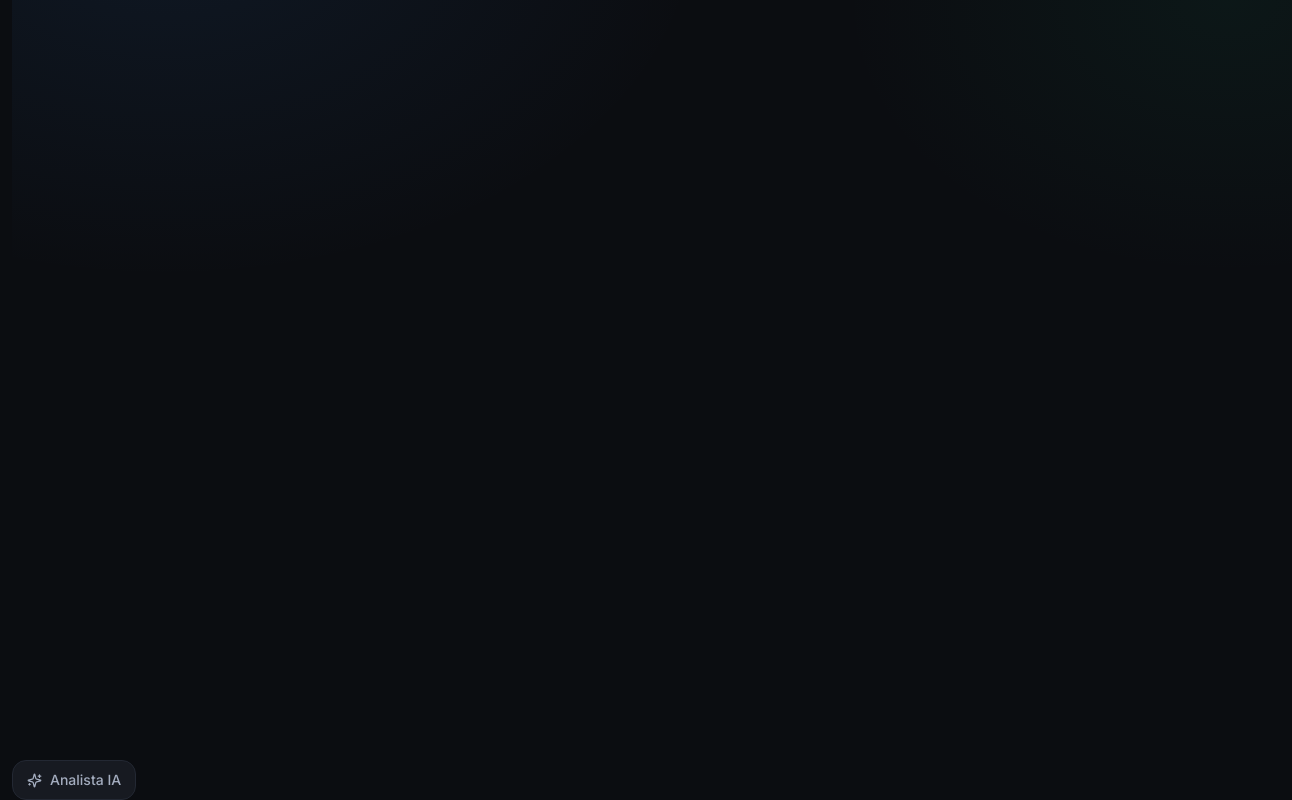
Test: AssetChat history › lists this scope's conversations first and reopens one in place
(page scrolled)
Click the button "Analista IA" at (74, 780), box left=12, top=760, right=136, bottom=799
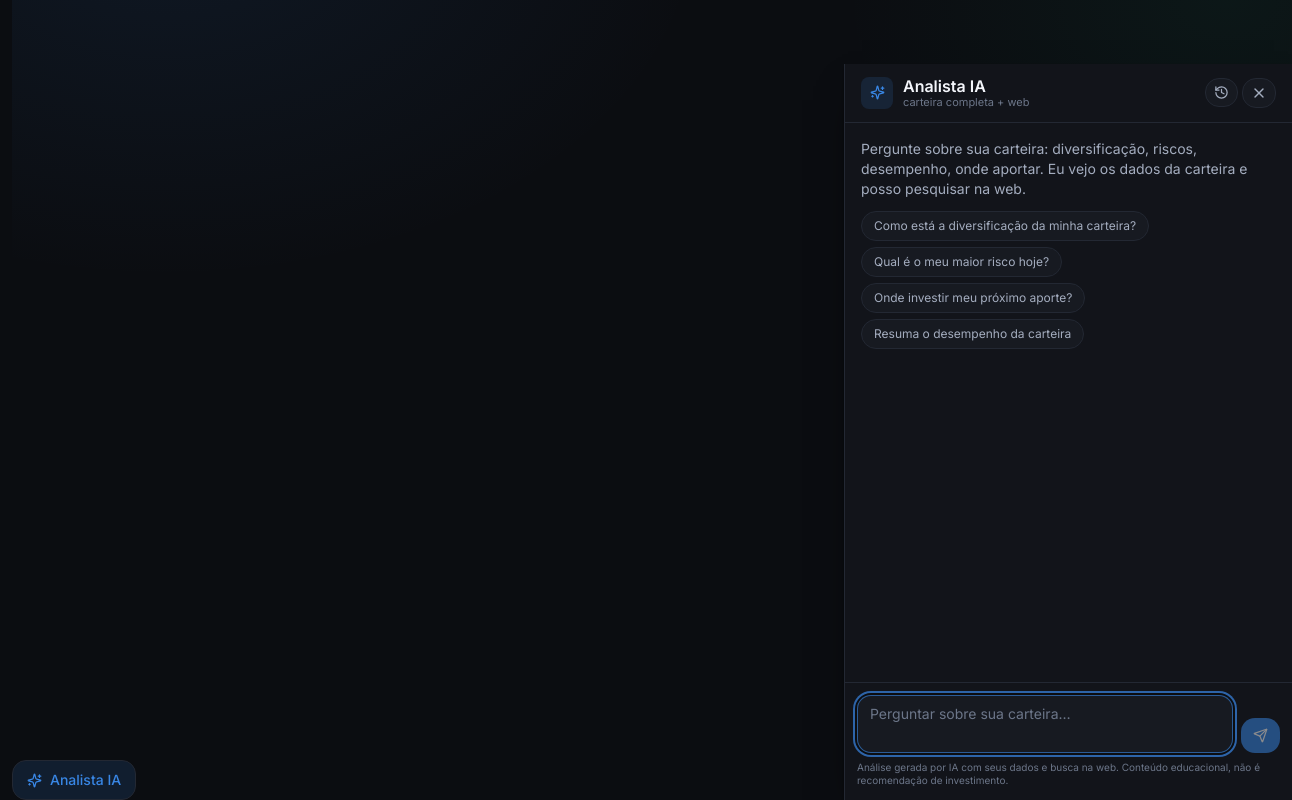
Click the button named "Conversas anteriores" at (1222, 93), box left=1205, top=78, right=1238, bottom=107
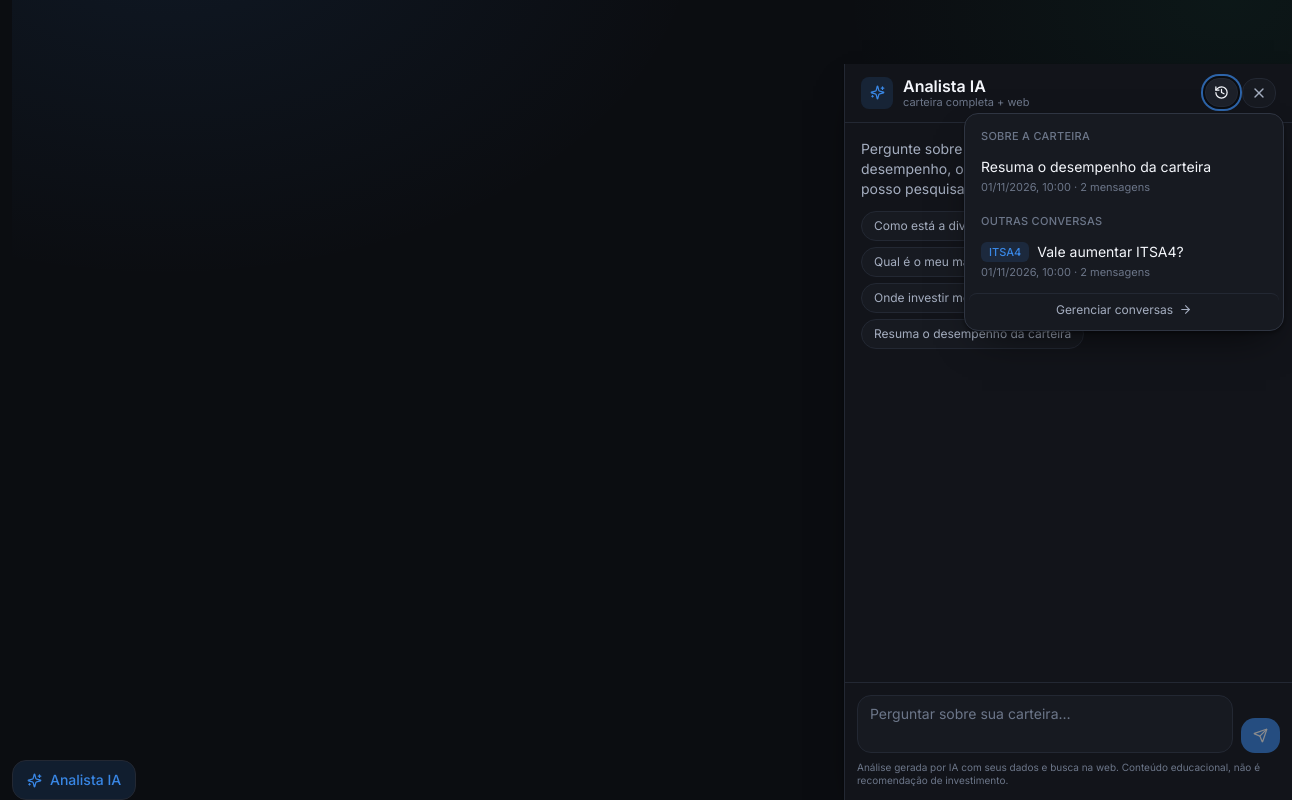
Now the text "Resuma o desempenho da carteira" is shown
Now the text "Outras conversas" is shown, box left=981, top=214, right=1102, bottom=228
Click the text "Resuma o desempenho da carteira" at (1096, 167), box left=981, top=157, right=1211, bottom=177
(page scrolled)
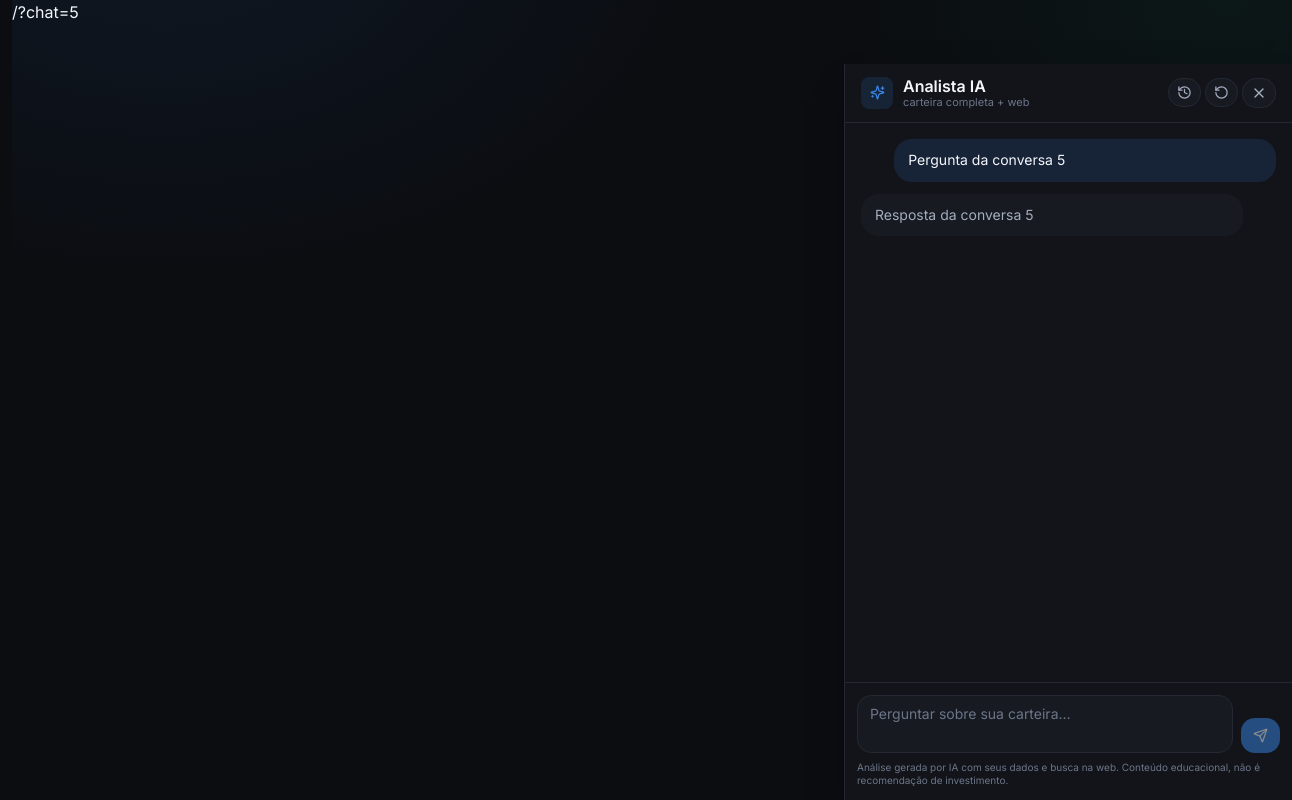
Now the text "Resposta da conversa 5" is shown, box left=875, top=206, right=1034, bottom=222
Now the text with test id "location" reads "/?chat=5", box left=12, top=2, right=79, bottom=22
Now the text "Outras conversas" is gone
